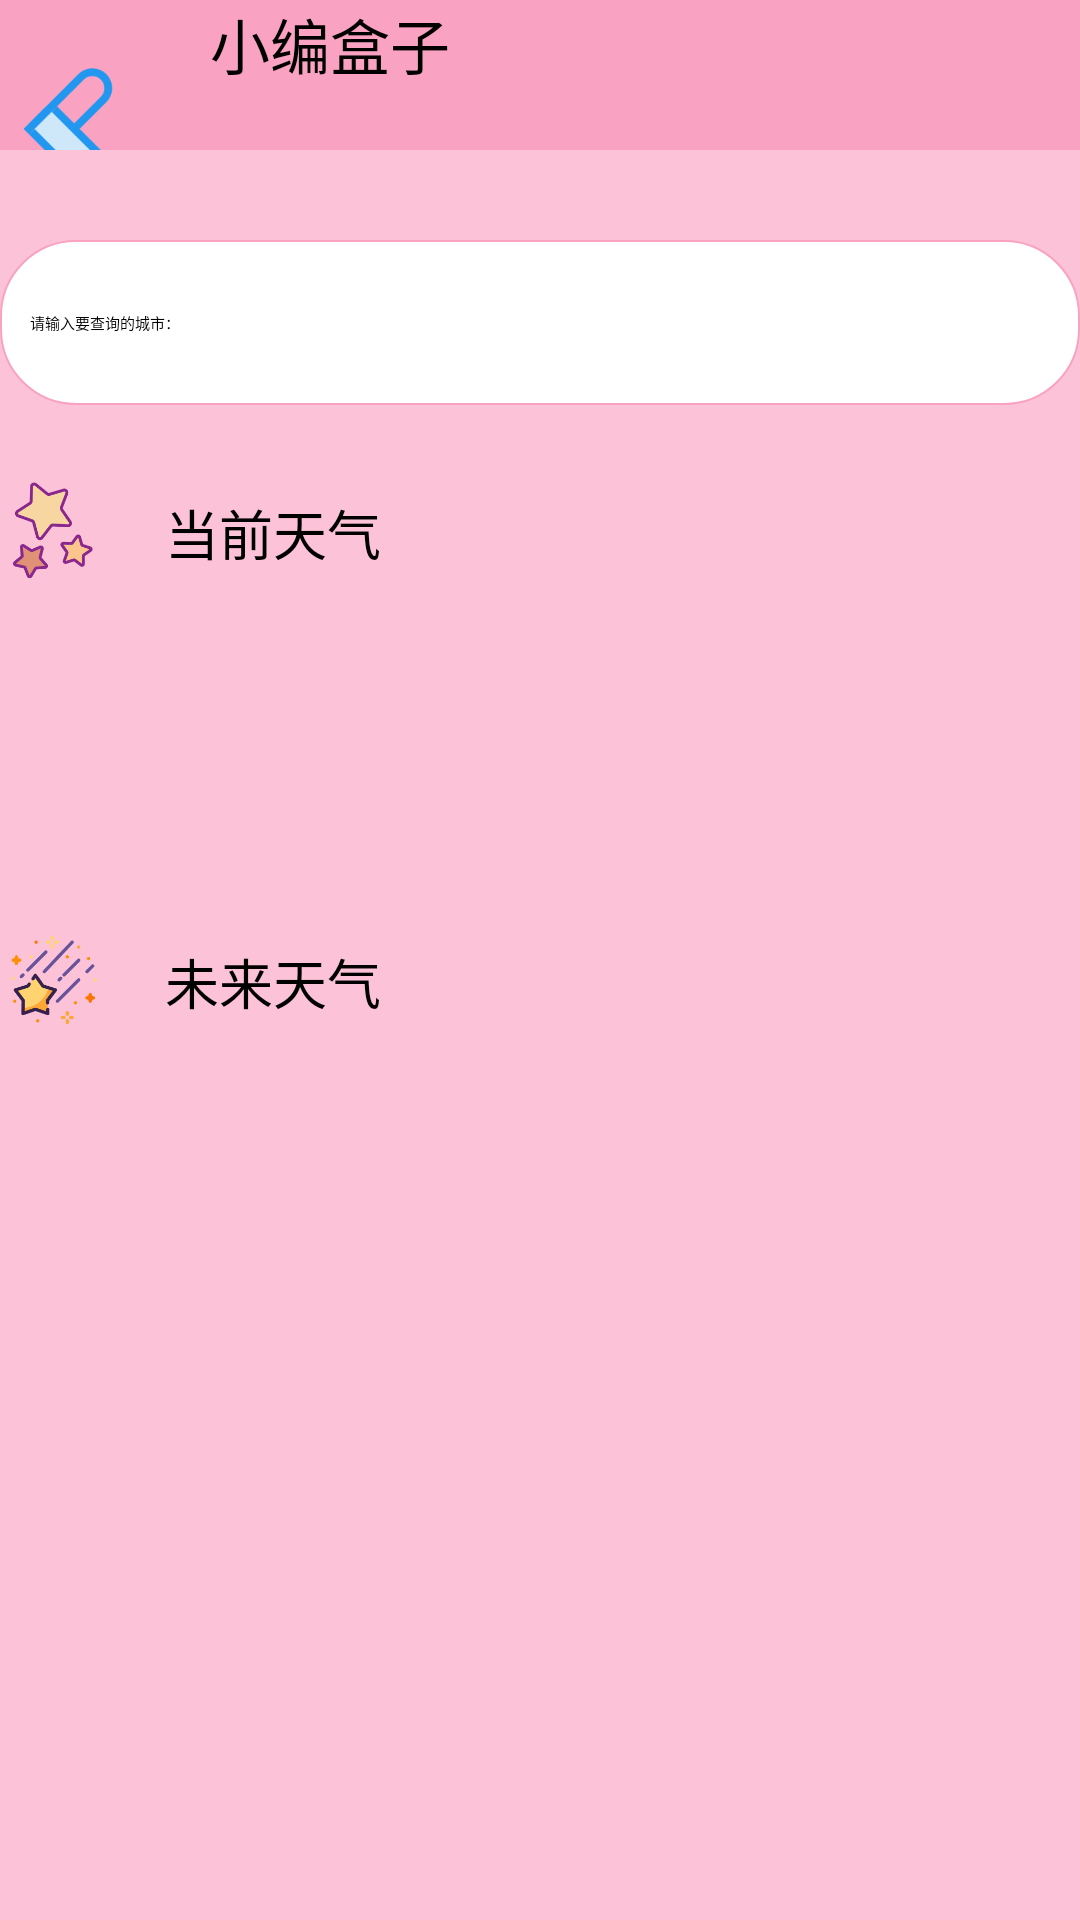

Screen size 1080x1920. Icon name, then its center in pixels as [x,y]:
star: [53,530]
